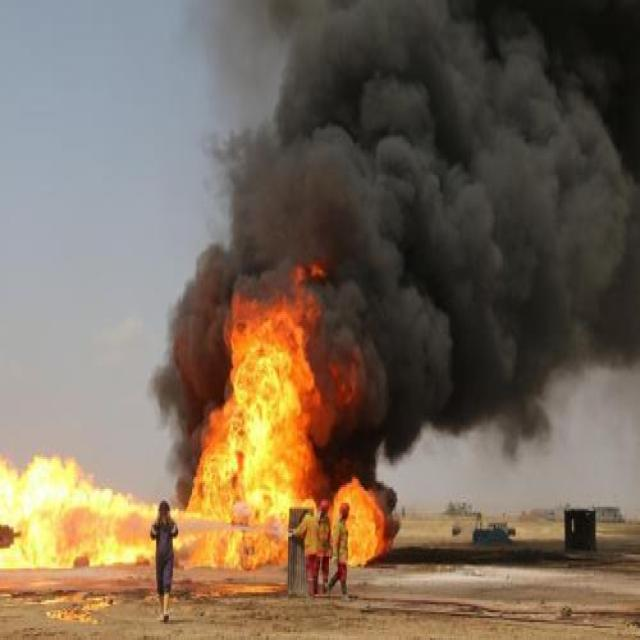fire: (173, 266, 390, 576), (0, 429, 157, 574), (332, 475, 389, 561)
smoke: (150, 0, 640, 502)
